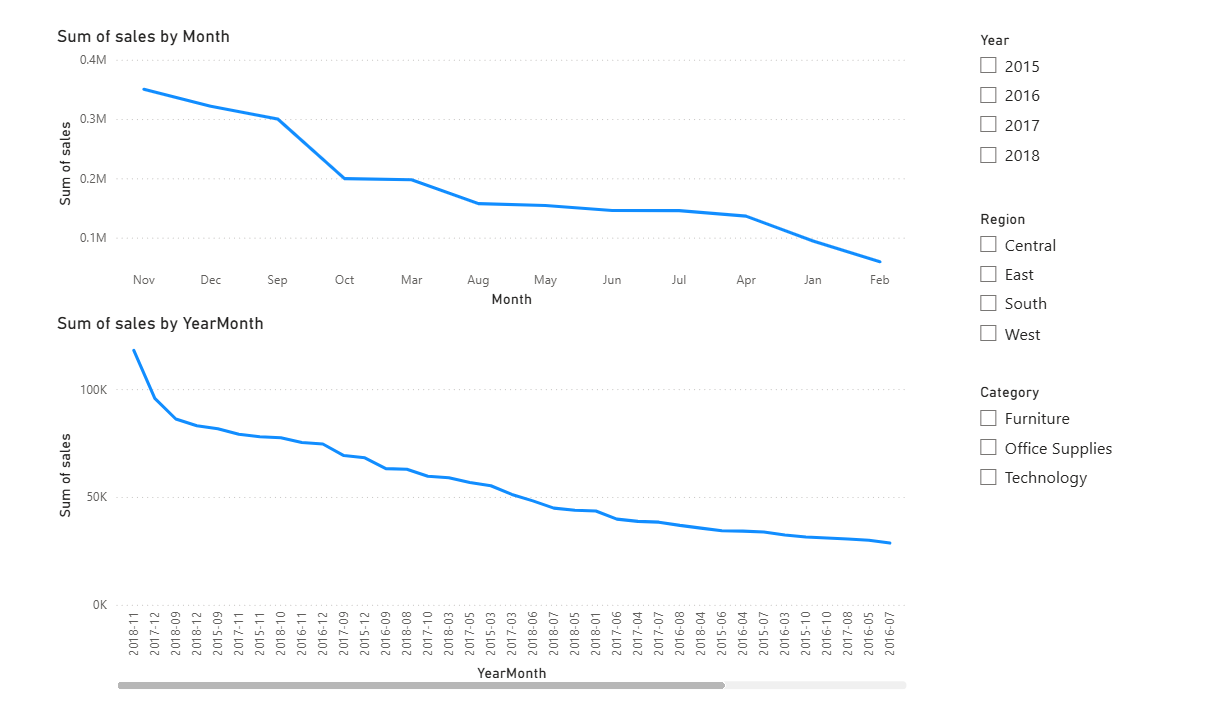

The dashboard page shown, as its layout file describes it:
{"tool":"powerbi","page":{"name":"Time Series & Forecast","canvas":[1280,720],"ordinal":3},"visuals":[{"type":"lineChart","fields":{"Y":["Sum(vw_clean_sales.sales)"],"Category":["DateTable.YearMonth"]},"box":[68.5,314.3,841.3,374.2],"z":0},{"type":"lineChart","fields":{"Y":["Sum(vw_clean_sales.sales)"],"Category":["DateTable.Month"]},"box":[68.5,34.2,841.3,280],"z":1000},{"type":"slicer","fields":{"Values":["DateTable.Year"]},"box":[963.6,34.2,280,150.4],"z":2000},{"type":"slicer","fields":{"Values":["vw_clean_sales.Category"]},"box":[963.6,379.1,280,129.6],"z":3000},{"type":"slicer","fields":{"Values":["vw_clean_sales.Region"]},"box":[963.6,209.1,280,150.4],"z":4000}]}

Visuals, with their boxes on the page's 1280x720 design canvas (x1, y1, x2, y2). These are canvas units, not pixel positions in the 1232x721 screenshot, which may show the page scaled, cropped or inside an application window:
lineChart - Sum(vw_clean_sales.sales) x DateTable.YearMonth: 68,314,910,688
lineChart - Sum(vw_clean_sales.sales) x DateTable.Month: 68,34,910,314
slicer - DateTable.Year: 964,34,1244,185
slicer - vw_clean_sales.Category: 964,379,1244,509
slicer - vw_clean_sales.Region: 964,209,1244,360
